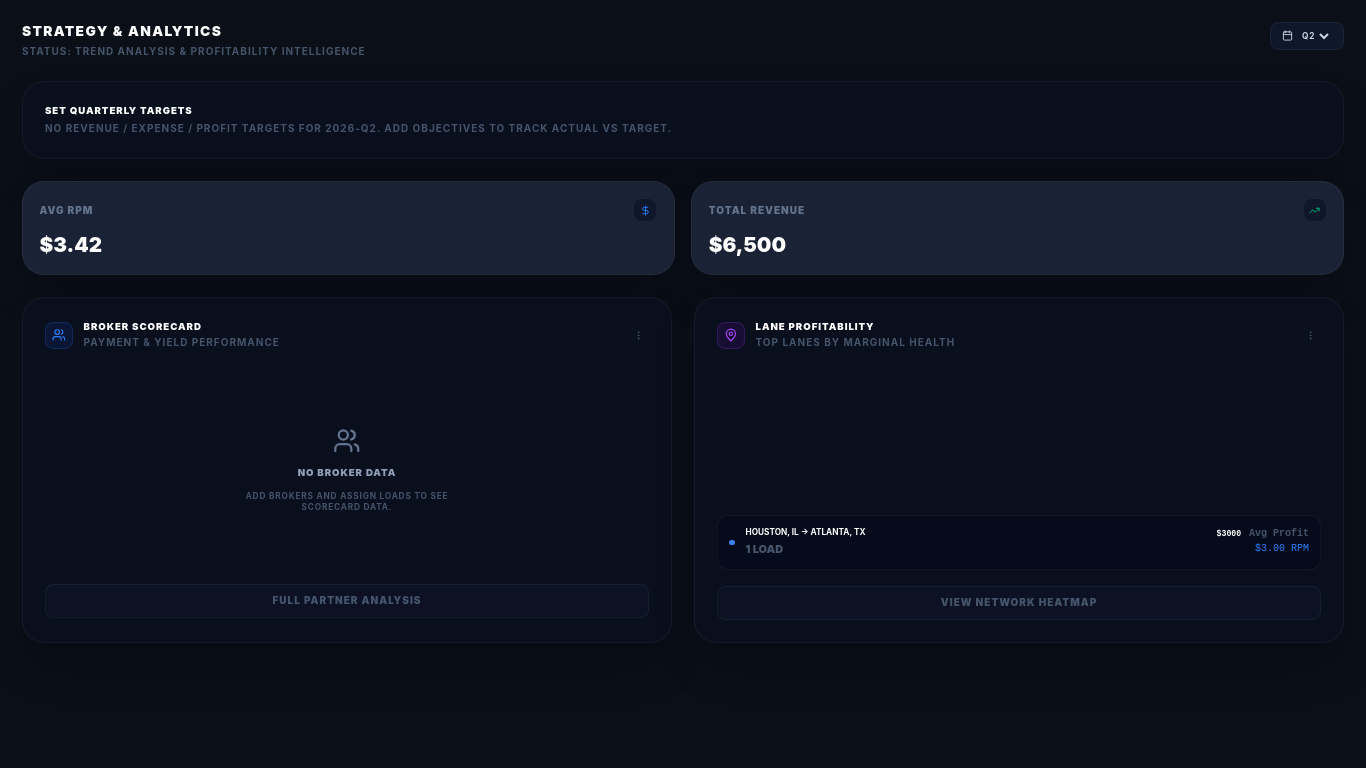
Scenario: AnalyticsDashboard quarterly enhancement › Tests R-P10-05 — displays 'Actual vs Target' progress bars when objectives exist
Select "Q2" in the dropdown with test id "quarter-selector" at (1315, 36), box [1298,30,1332,42]
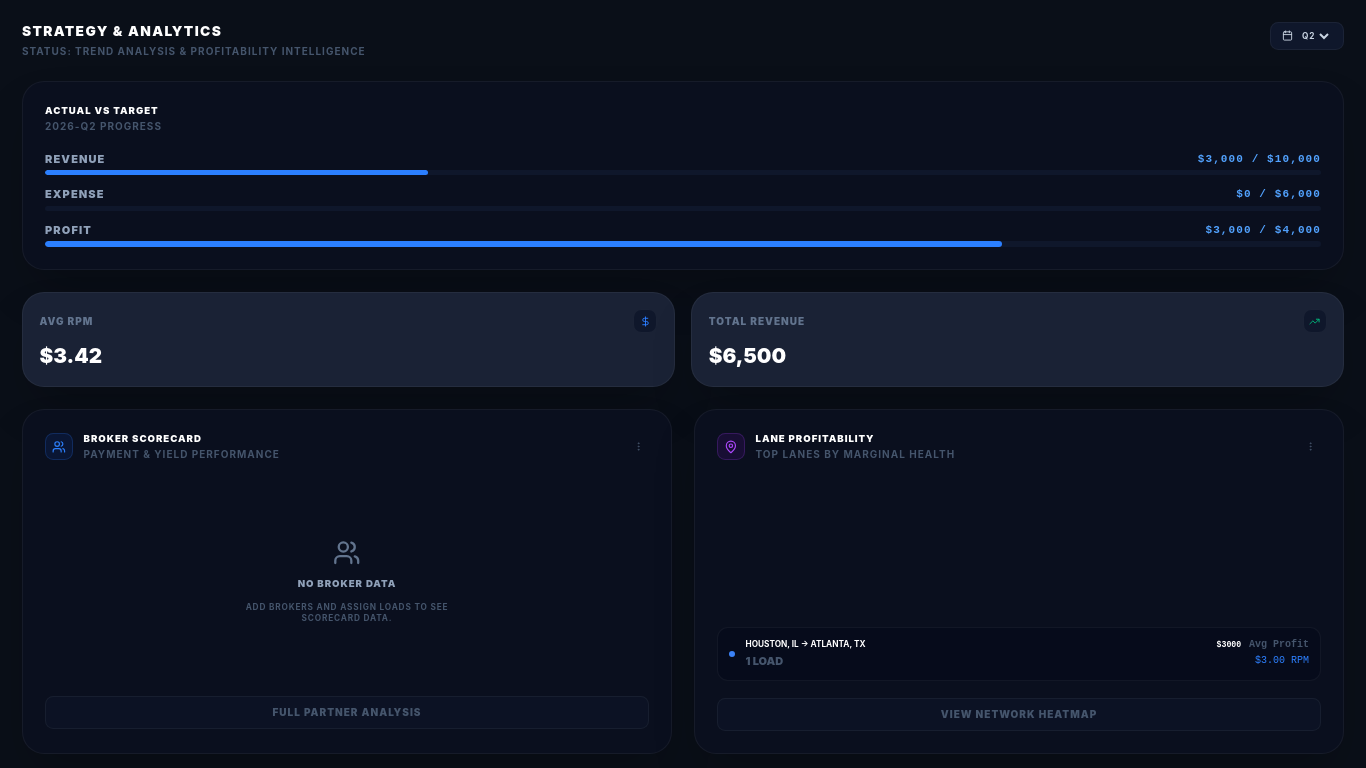
expect the element with test id "actual-vs-target" shows "Actual vs Target": met, box [45,105,158,116]
expect the element with test id "actual-vs-target" is shown: met, box [22,81,1344,270]
